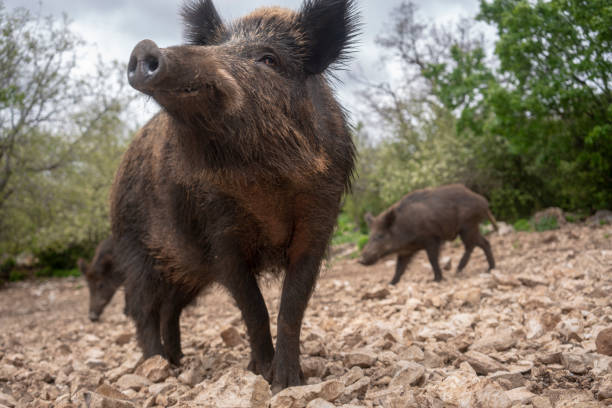pig: (83, 12, 358, 382)
